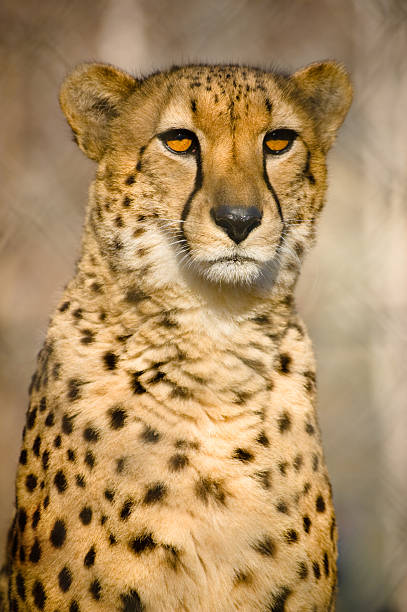cheetah: (45, 35, 371, 335)
